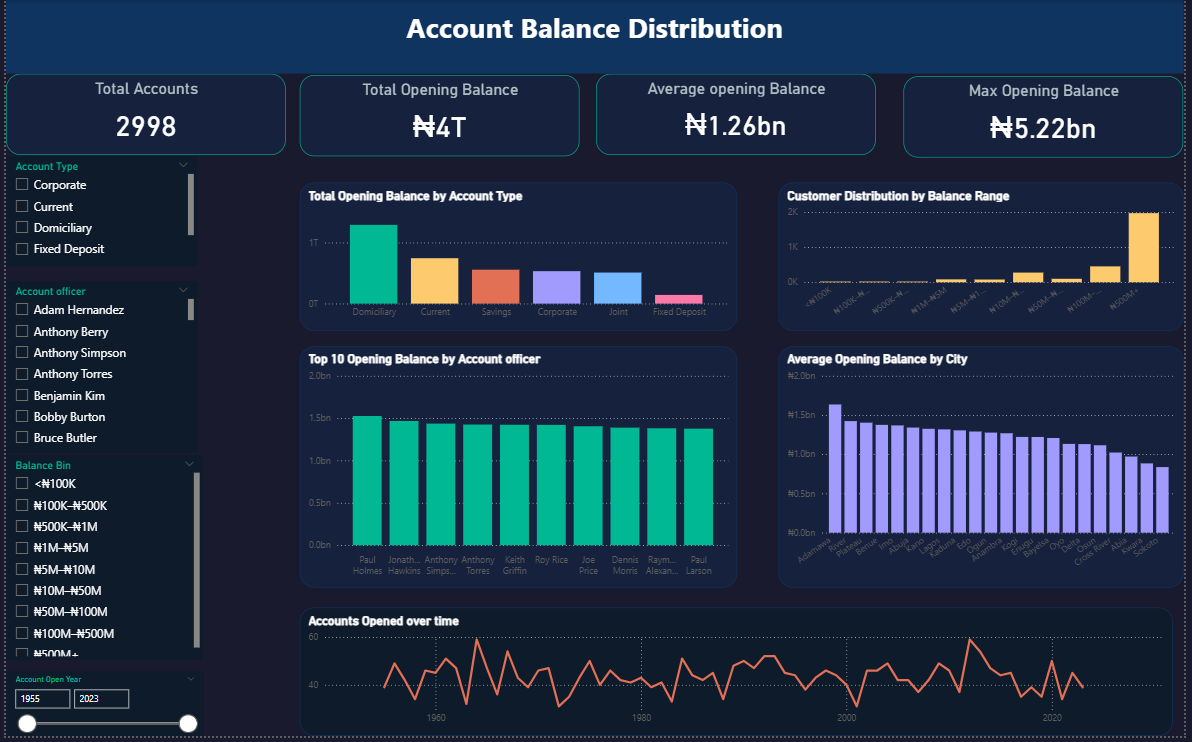

The dashboard page shown, as its layout file describes it:
{"tool":"powerbi","page":{"name":"Account Balance Distribution","canvas":[1600,1000],"ordinal":3},"visuals":[{"type":"columnChart","title":"Total Opening Balance by Account Type","fields":{"Category":["Accounts.Account Type"],"Y":["Sum(Accounts.Opening Balance)"]},"box":[399,247.3,594.3,201.6],"z":0},{"type":"clusteredColumnChart","title":"Customer Distribution by Balance Range","fields":{"Category":["Accounts.Balance Bin"],"Y":["CountNonNull(Accounts.Account Number)"]},"box":[1049.4,247.3,550.6,201.6],"z":1000},{"type":"clusteredColumnChart","title":"Top 10 Opening Balance by Account officer","fields":{"Category":["Accounts.Account officer"],"Y":["Avg(Accounts.Opening Balance)"]},"box":[399,469.6,594.3,328.3],"z":2000},{"type":"lineChart","title":"Accounts Opened over time","fields":{"Category":["Accounts.Account Open Year"],"Y":["CountNonNull(Accounts.Account Number)"]},"box":[399,824.9,1186.5,174.5],"z":3000},{"type":"card","title":"Total Accounts","fields":{"Values":["Accounts.Total Accounts"]},"box":[0,99.7,380.3,110.1],"z":4000},{"type":"card","title":"Total Opening Balance","fields":{"Values":["Accounts.Total Opening Balance"]},"box":[399,101.8,380.3,110.1],"z":5000},{"type":"card","title":"Average opening Balance","fields":{"Values":["Accounts.Average Opening Balance"]},"box":[802.1,99.7,380.3,110.1],"z":6000},{"type":"card","title":"Max Opening Balance","fields":{"Values":["Accounts.Max Opening Balance"]},"box":[1219.7,103.9,380.3,110.1],"z":7000},{"type":"columnChart","fields":{"Category":["Customer.City"],"Y":["Accounts.Average Opening Balance"]},"box":[1049.4,469.6,550.6,328.3],"z":8000},{"type":"slicer","fields":{"Values":["Accounts.Account Type"]},"box":[0,212.3,259.9,149.5],"z":9000},{"type":"slicer","fields":{"Values":["Accounts.Account officer"]},"box":[0,382.1,259.9,232.7],"z":10000},{"type":"slicer","fields":{"Values":["Accounts.Account Open Year"]},"box":[0,912,268.3,88.3],"z":11000},{"type":"slicer","fields":{"Values":["Accounts.Balance Bin"]},"box":[0,618.2,268.3,278.5],"z":12000},{"type":"textbox","box":[0,0,1600,100],"z":13000},{"type":"pageNavigator","box":[1081.9,25.5,518,49.3],"z":13001}]}

Visuals, with their boxes in screenshot pixels (x1, y1, x2, y2), scaled from the page's 1600x1000 canvas onto the 1192x742 screenshot:
"Total Opening Balance by Account Type" columnChart: (297, 183, 740, 333)
"Customer Distribution by Balance Range" clusteredColumnChart: (782, 183, 1191, 333)
"Top 10 Opening Balance by Account officer" clusteredColumnChart: (297, 348, 740, 592)
"Accounts Opened over time" lineChart: (297, 612, 1181, 741)
"Total Accounts" card: (0, 74, 283, 156)
"Total Opening Balance" card: (297, 76, 581, 157)
"Average opening Balance" card: (598, 74, 881, 156)
"Max Opening Balance" card: (909, 77, 1191, 159)
columnChart - Customer.City x Accounts.Average Opening Balance: (782, 348, 1191, 592)
slicer - Accounts.Account Type: (0, 158, 194, 268)
slicer - Accounts.Account officer: (0, 284, 194, 456)
slicer - Accounts.Account Open Year: (0, 677, 200, 741)
slicer - Accounts.Balance Bin: (0, 459, 200, 665)
textbox: (0, 0, 1191, 74)
pageNavigator: (806, 19, 1191, 56)
